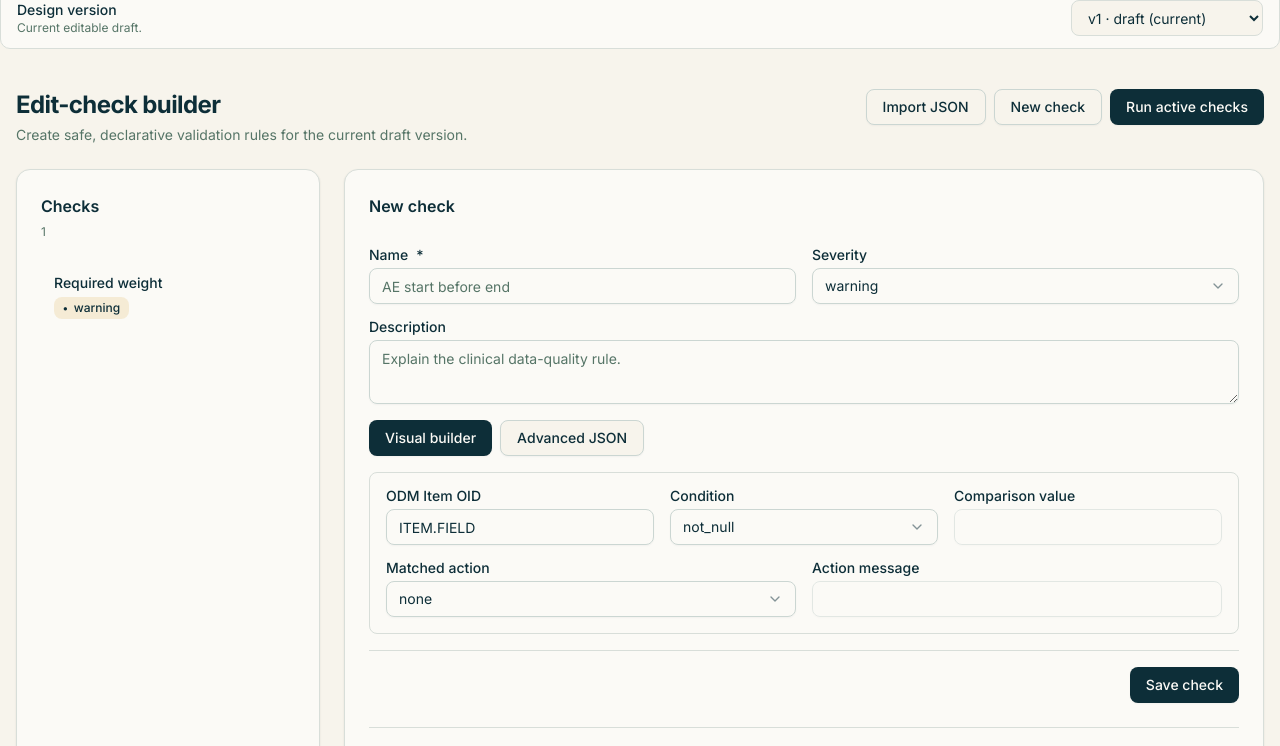
it: Phase 2 workflow controls › deletes a selected draft edit check after confirmation
Step 1. Click the button "Required weight ● warning" → (168, 296), box left=41, top=264, right=295, bottom=328
(page scrolled)
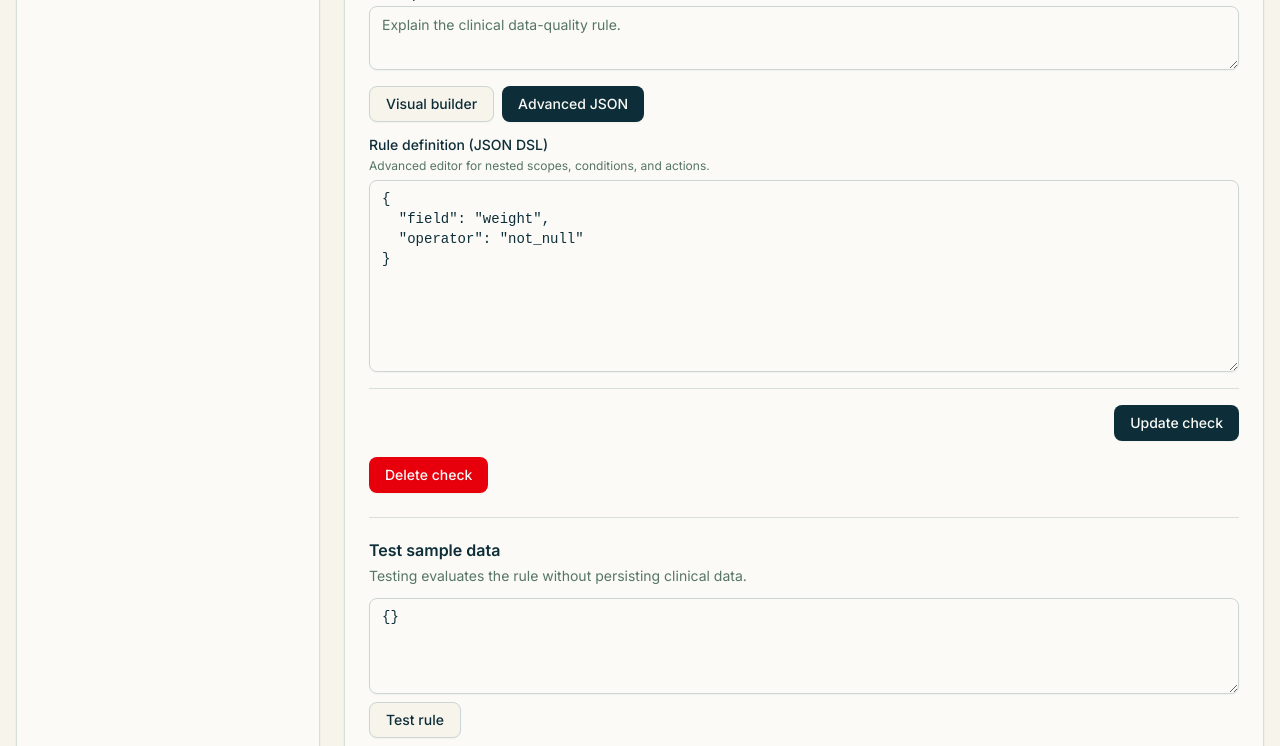
Step 2. Click the button "Delete check" → (429, 475), box left=369, top=457, right=488, bottom=493
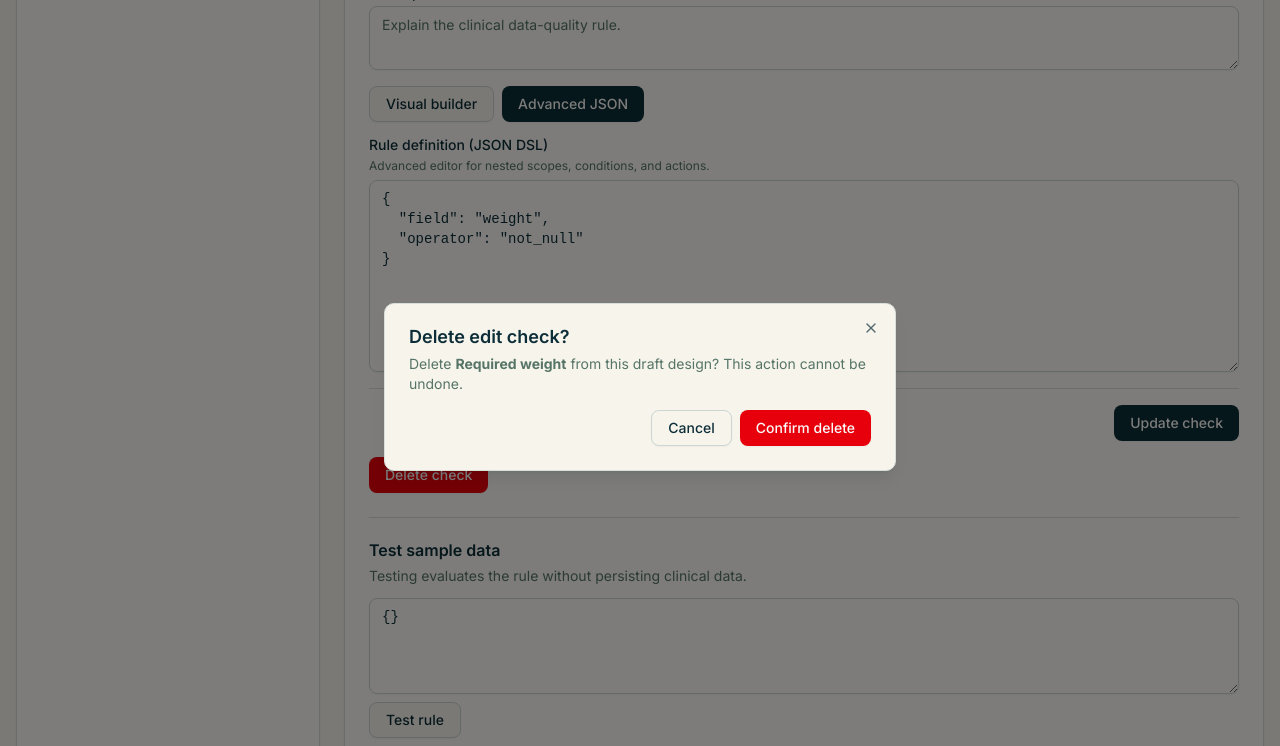
Check: the dialog "Delete edit check?" is shown, box left=384, top=303, right=896, bottom=471
Step 3. Click the button "Confirm delete" → (805, 428), box left=740, top=410, right=871, bottom=446
(page scrolled)
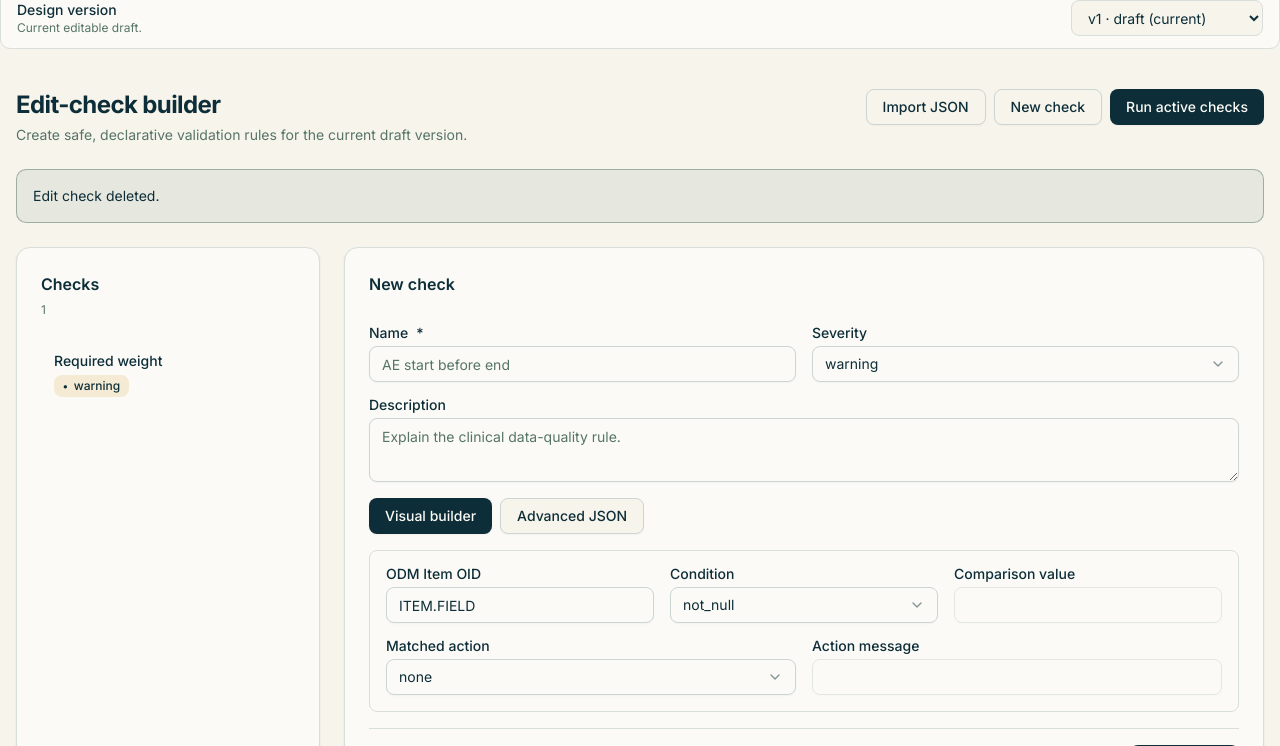
Check: the text "Edit check deleted." is shown, box left=33, top=187, right=160, bottom=204
